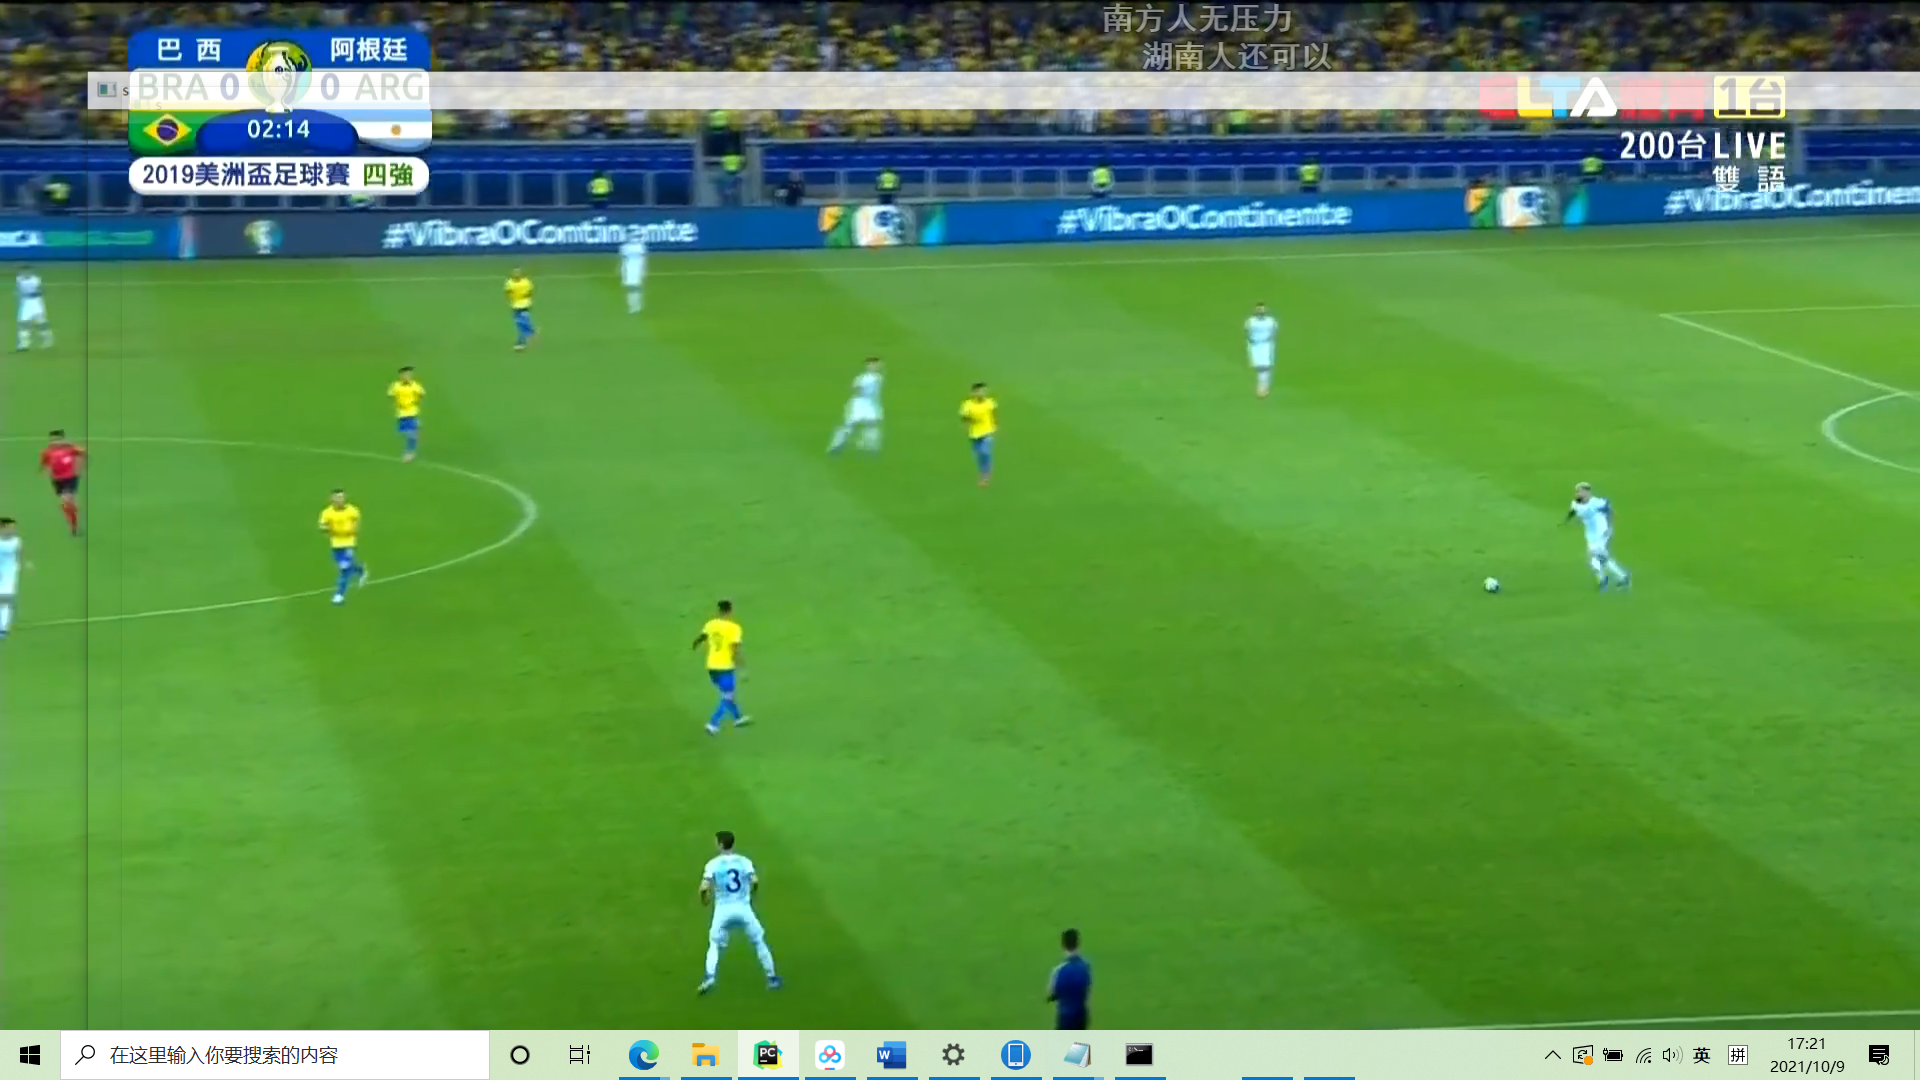ft: (1481, 575, 1501, 595)
